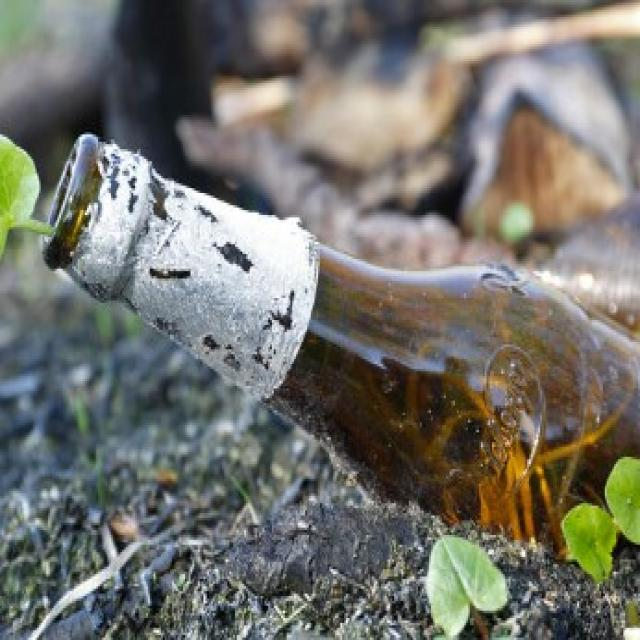electronic: (38, 124, 640, 573)
